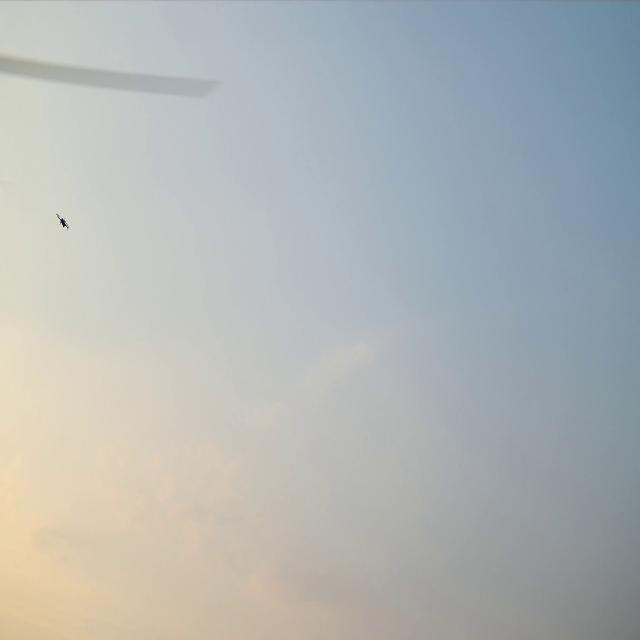UAV: (58, 215, 68, 229)
